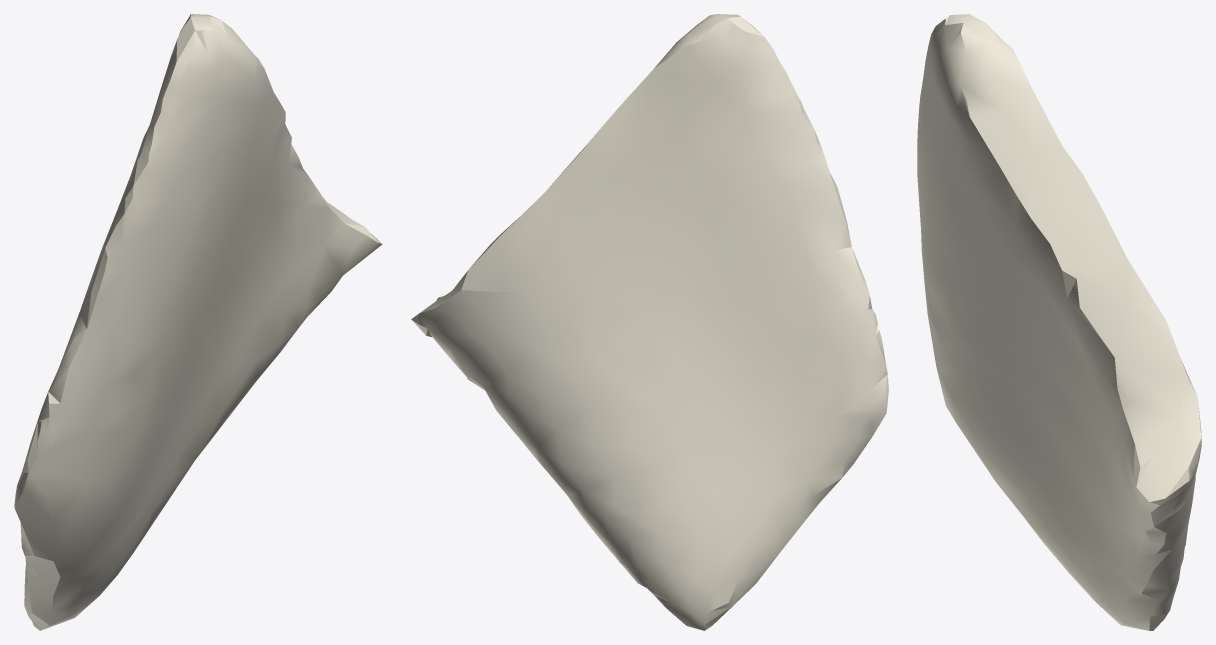
Rendered from fma323750-r_mm2018.glb.
3 views of the same model, side by side, from view 1: azimuth 30°, elevation 25°; view 2: azimuth 150°, elevation 25°; view 3: azimuth 270°, elevation 25° (orthographic). The views are drawn at different scales.
Parts seen in each view (by area): view 1: FMA323750-R_MM2018; view 2: FMA323750-R_MM2018; view 3: FMA323750-R_MM2018.
Boxes of the visible parts, left/top/right/bottom form: FMA323750-R_MM2018: left=14, top=14, right=382, bottom=630; FMA323750-R_MM2018: left=411, top=14, right=888, bottom=630; FMA323750-R_MM2018: left=917, top=14, right=1201, bottom=630.
Bounding box in the file's own units: 0.00723 × 0.00973 × 0.00391.
